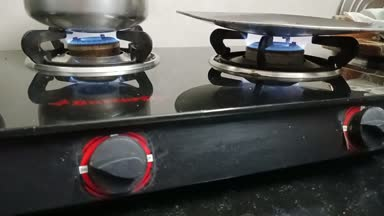flame_gas_on: (47, 27, 152, 195), (230, 30, 335, 81)
